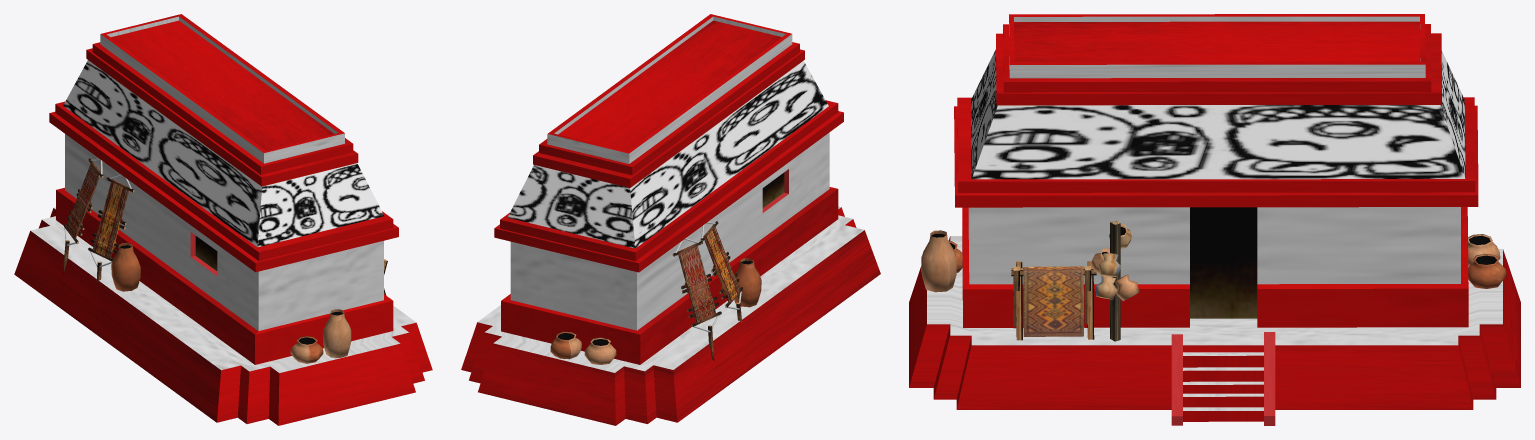
File: house_nobre_4.dae
3 renders of one model, left to right at view 1: azimuth 30°, elevation 25°; view 2: azimuth 150°, elevation 25°; view 3: azimuth 270°, elevation 25°, orthographic. The views are drawn at different scales.
Visible parts, largest first — view 1: house_nobre_4; view 2: house_nobre_4; view 3: house_nobre_4.
Boxes of the visible parts, x1,y1,x2,y2 form: house_nobre_4: (14,14,432,425); house_nobre_4: (461,14,880,425); house_nobre_4: (909,14,1520,425).
Bounding box in the file's own units: 7.97 × 13.71 × 7.51.
